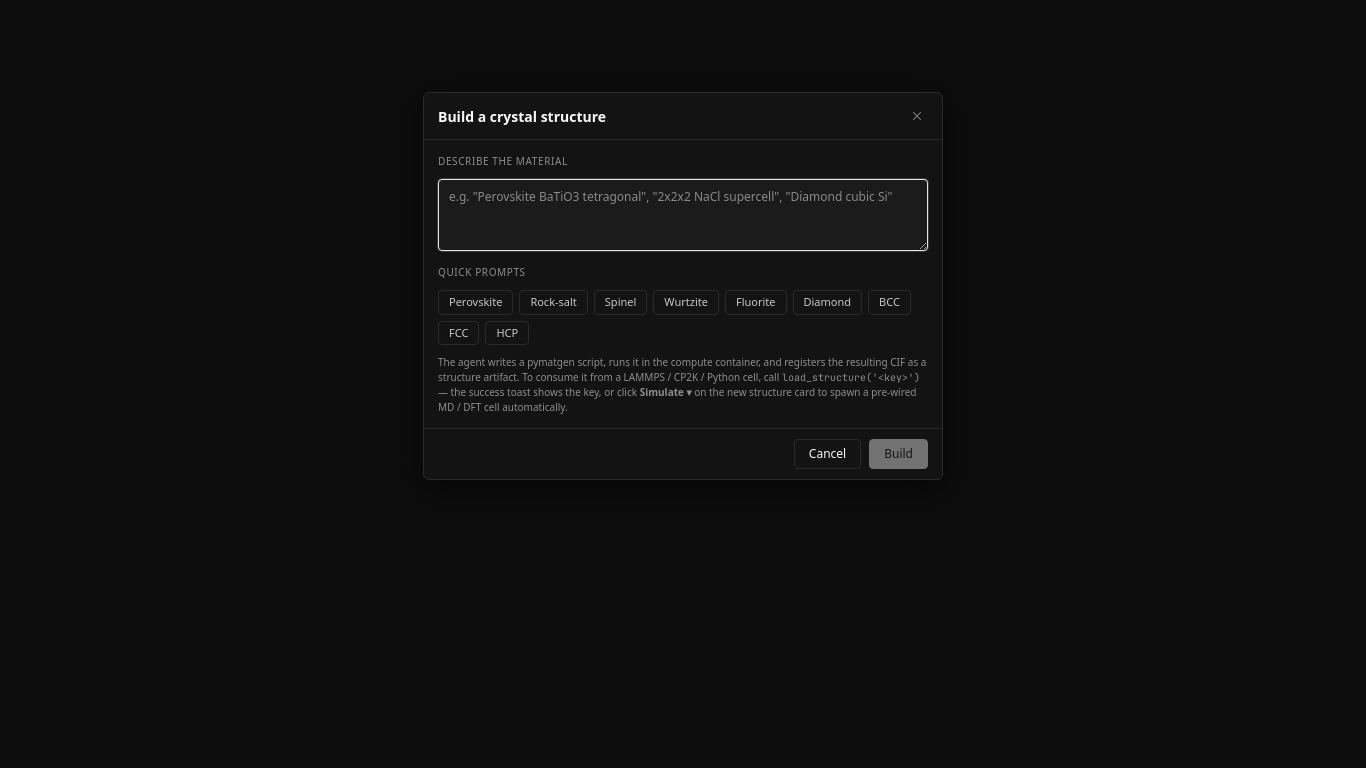
Scenario: AddStructureDialog › keeps the modal open and shows an error panel on build failure
Type "Wrong thing" into the text box.
click(683, 215); type("Wrong thing")  # box [438, 179, 928, 251]
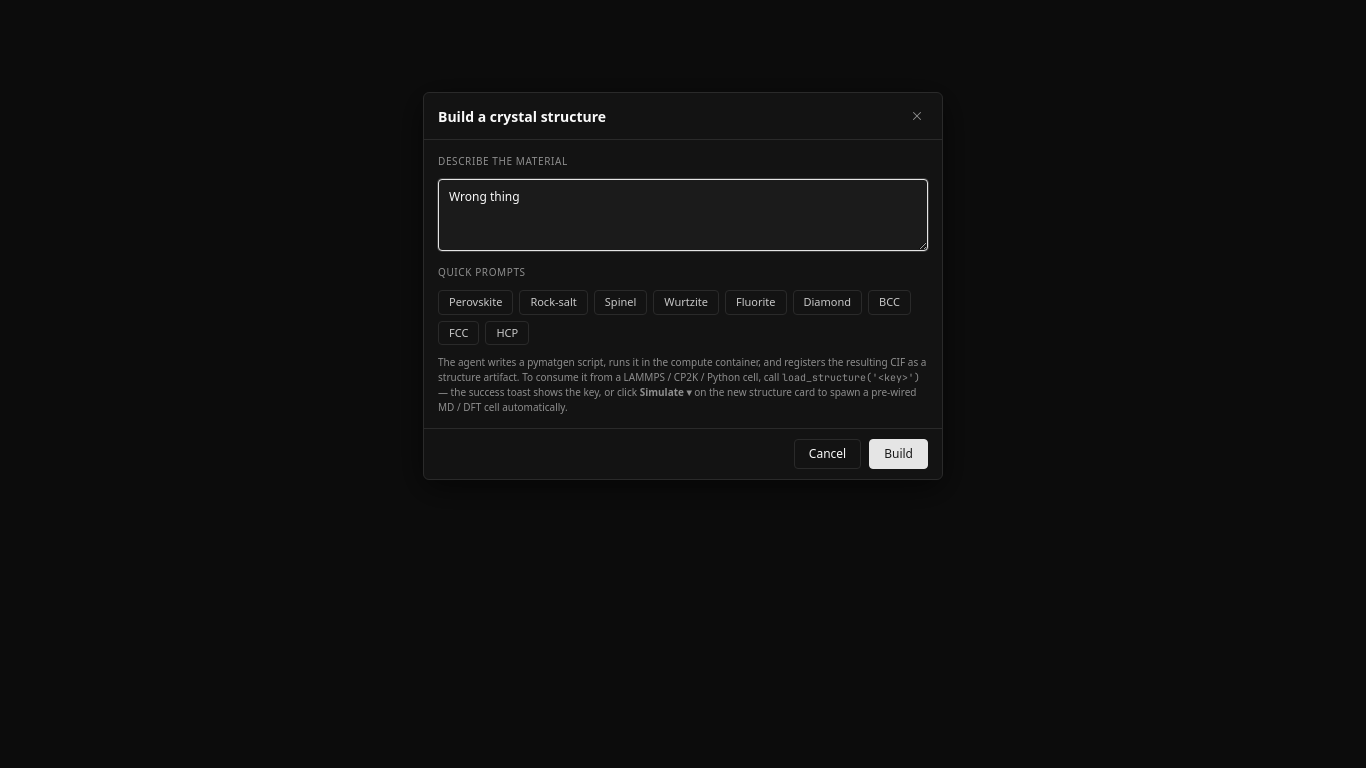
Click the button "Build".
click(899, 454)  # box [869, 439, 928, 469]
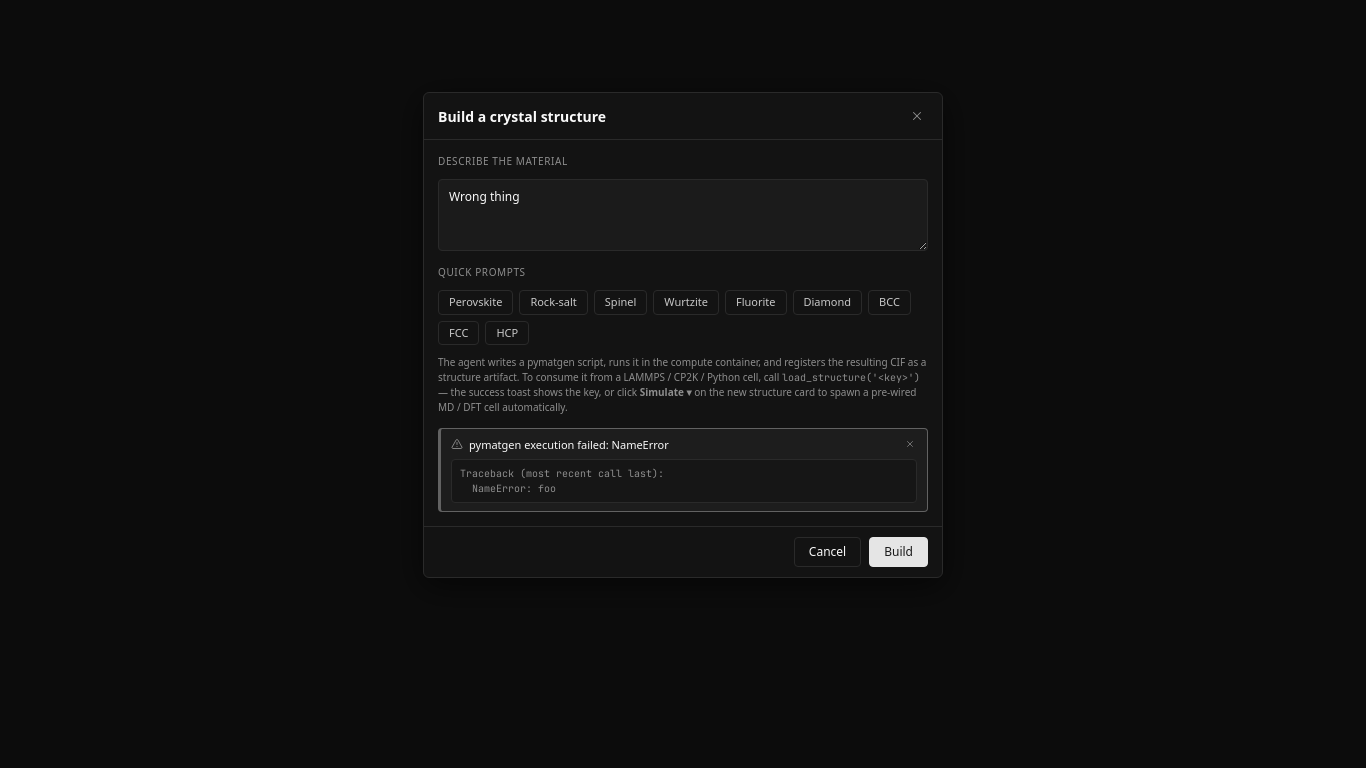
Result: the message shows "pymatgen" at [469, 437, 669, 452]
Result: the message shows "NameError" at [469, 437, 669, 452]
